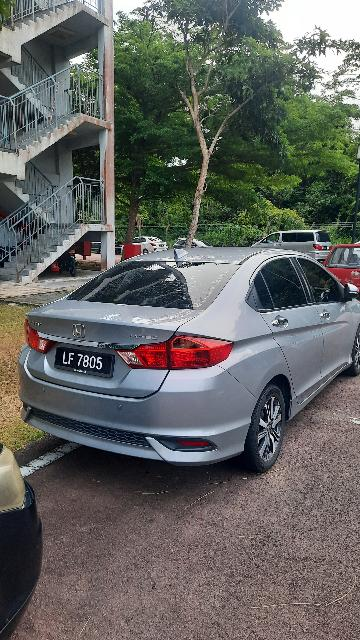License_Plate: (53, 345, 119, 383)
car: (18, 240, 360, 476)
